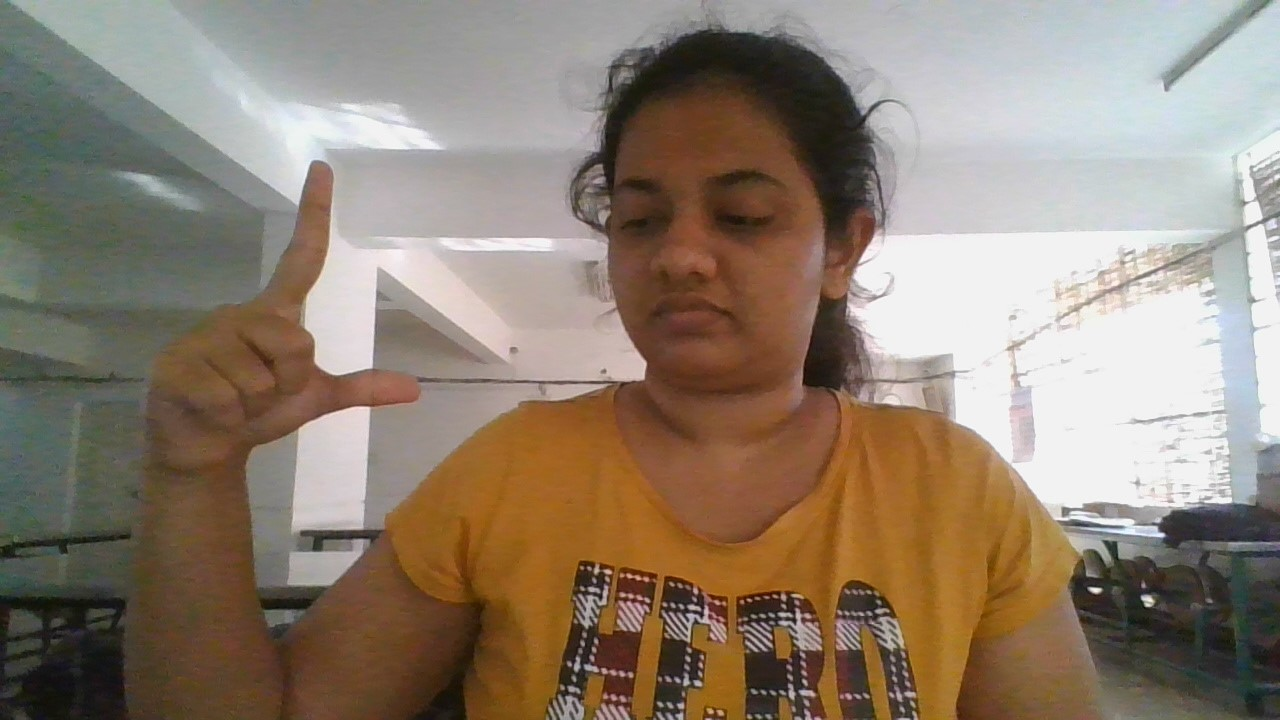l: (132, 145, 427, 486)
